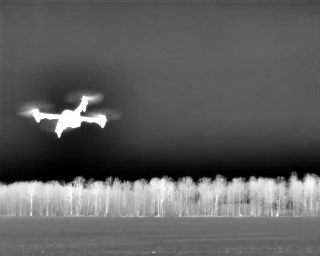DRONE: (20, 86, 128, 147)
